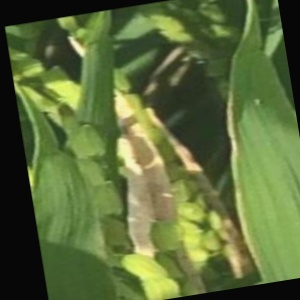Leaf_Blast: (231, 75, 300, 286)
